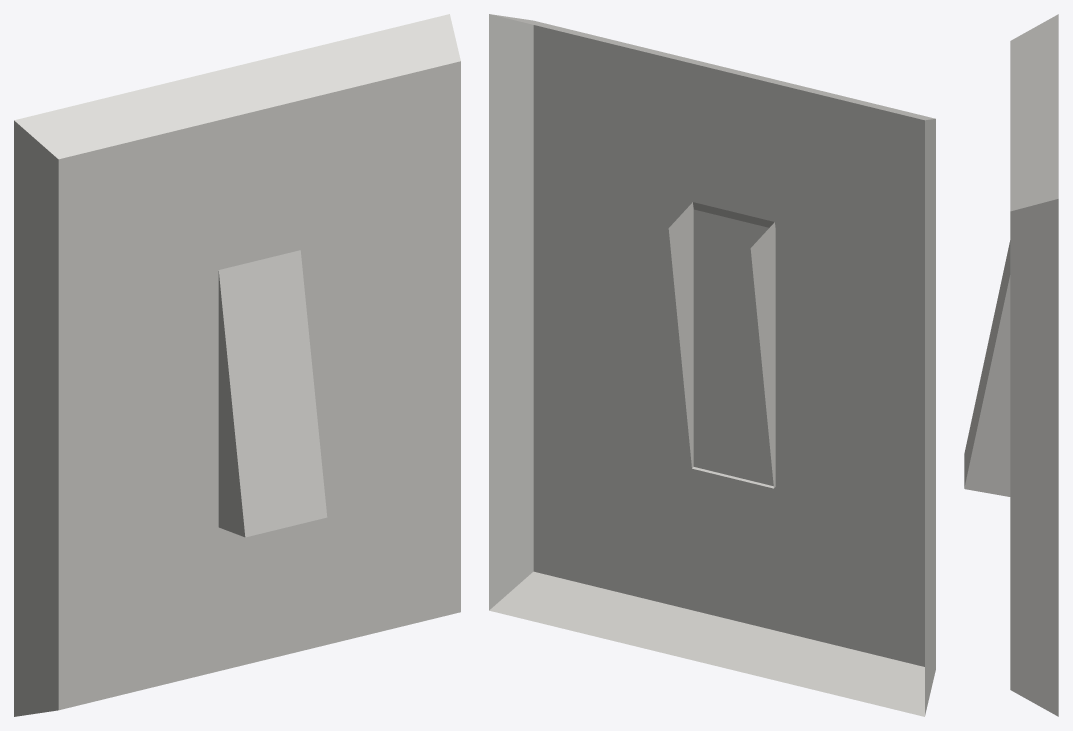
File: Switch_3.fbx
The picture shows the model from 3 angles, left to right: view 1: azimuth 30°, elevation 25°; view 2: azimuth 150°, elevation 25°; view 3: azimuth 270°, elevation 25°; orthographic projection. The views are drawn at different scales.
Parts seen in each view (by area): view 1: polySurface1491; view 2: polySurface1491; view 3: polySurface1491.
Part boxes in pixels (left/top/right/bottom): polySurface1491: left=14, top=14, right=460, bottom=716; polySurface1491: left=489, top=14, right=935, bottom=716; polySurface1491: left=964, top=14, right=1058, bottom=716.
Size of the model in its own units: 0.2333 by 0.3053 by 0.0504.
1 material, 1 textured.
